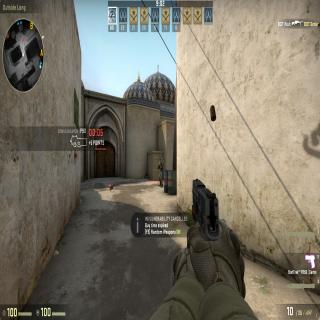T-Body: (158, 158, 163, 188)
T-Head: (159, 158, 161, 163)
